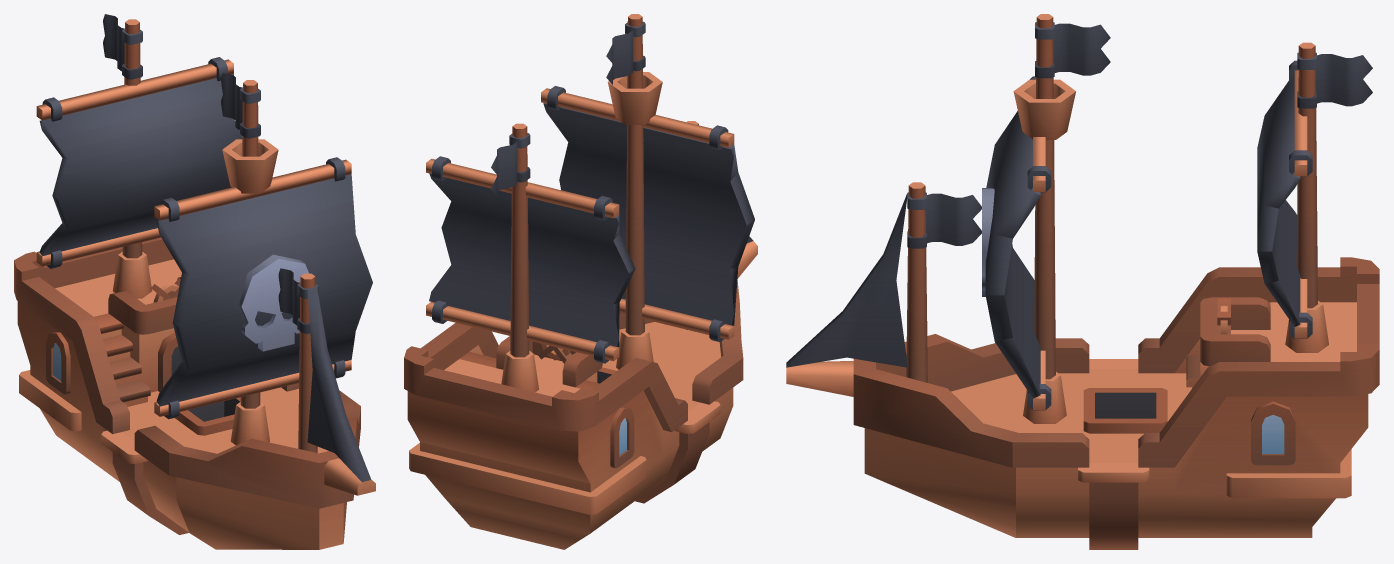
Rendered from ship-pirate-medium.gltf.
3 views of the same model, side by side, from view 1: azimuth 30°, elevation 25°; view 2: azimuth 150°, elevation 25°; view 3: azimuth 270°, elevation 25° (orthographic). The views are drawn at different scales.
Parts seen in each view (by area): view 1: ship-pirate-medium, sail-a, sail-b, flag-b, flag-c, flag-a; view 2: ship-pirate-medium, sail-a, sail-b, flag-c, flag-b; view 3: ship-pirate-medium, sail-a, sail-b, flag-b, flag-c, flag-a.
Boxes of the visible parts, left/top/right/bottom form: ship-pirate-medium: left=14, top=19, right=375, bottom=549; sail-a: left=154, top=157, right=372, bottom=419; sail-b: left=36, top=57, right=242, bottom=268; flag-b: left=220, top=73, right=260, bottom=138; flag-c: left=103, top=14, right=142, bottom=79; flag-a: left=278, top=268, right=318, bottom=333; ship-pirate-medium: left=404, top=14, right=757, bottom=549; sail-a: left=541, top=86, right=754, bottom=341; sail-b: left=426, top=156, right=635, bottom=363; flag-c: left=491, top=133, right=530, bottom=196; flag-b: left=606, top=21, right=645, bottom=84; ship-pirate-medium: left=786, top=14, right=1379, bottom=549; sail-a: left=982, top=76, right=1051, bottom=410; sail-b: left=1257, top=60, right=1312, bottom=338; flag-b: left=1035, top=22, right=1110, bottom=78; flag-c: left=1297, top=52, right=1372, bottom=108; flag-a: left=907, top=192, right=981, bottom=248.
Bounding box in the file's own units: 480 × 996 × 1060.
Materials: 1 (1 with a texture image).
